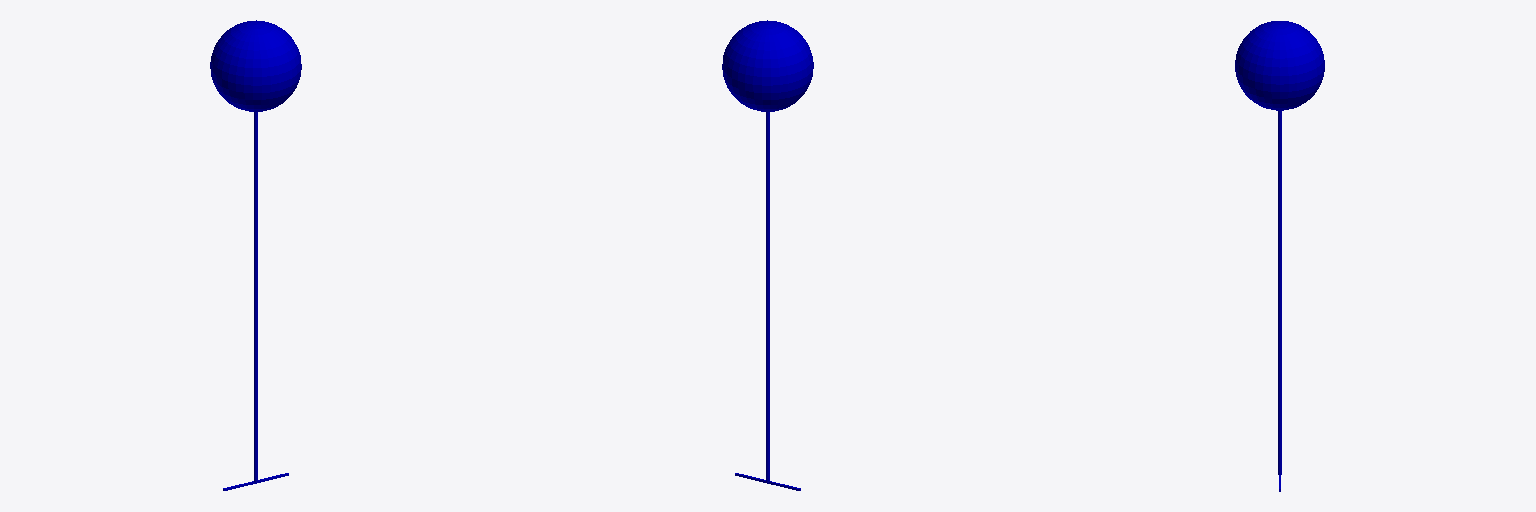
The robot description file, URDF, robot "single_legged_hopper":
<?xml version="1.0"?>
<robot name = "single_legged_hopper">
    <link name = "xtrans"/>
    <link name = "ztrans"/>
    <material name="blue">
        <color rgba="0 0 0.8 1"/>
    </material>
    <joint name="xslide" type="prismatic">
        <parent link="xtrans"/>
        <child link="ztrans"/>
        <origin rpy="0 0 0" xyz="0 0 0"/>
        <axis xyz="1 0 0"/>
    </joint>
    <joint name="zslide" type="prismatic">
        <parent link="ztrans"/>
        <child link="base"/>
        <origin rpy="0 0 0" xyz="0 0 0"/>
        <axis xyz="0 0 1"/>
    </joint>
    <!-- add link for the base -->
    <link name="base">
        <inertial>
            <origin xyz="0 0 0"/>
            <mass value="10"/>
            <inertia ixx="0.0001" ixy="0" ixz="0" iyy="0.0001" iyz="0.0" izz="0.0001"/>
        </inertial>
        <visual>
            <origin xyz="0 0 0" rpy="0.0 0.0 0.0"/>
            <geometry>
                <sphere radius="0.2"/>
            </geometry> 
            <material name="blue"/>
        </visual>
    </link>
    <!--does this lock the hopper in x and z axis?-->
    
    <!-- join between base and leg 1 -->
    
    
    <!-- add link for leg 1 -->
    <link name="leg_1">
        <visual>
            <origin xyz="0 0 -0.5" rpy="0 0 0"/>
            <geometry>
                <cylinder radius="0.01" length = "1"/>
            </geometry>
            <material name="blue"/>
        </visual>
        <inertial>
            <origin xyz="0 0 -0.5" rpy="0 0 0"/>
            <mass value="1"/>
            <inertia ixx="0.083" ixy="0.0" ixz="0.0" iyy="0.083" iyz="0.0" izz="0.00001"/>
        </inertial>
    </link>
    <joint name="base_leg_1" type="revolute">
        <parent link="base"/>
        <child link="leg_1"/>
        <axis xyz="0 1 0"/>
      	<origin xyz = "0 0 0"/>
        <limit lower="-1.57" upper="1.57"/>
    </joint>
    <!-- join between leg 1 and leg 2 -->
    
    
    <!-- add link for leg 2 -->
    <link name="leg_2">
        <visual>
            <origin xyz="0 0 -0.5" rpy="0 0 0"/>
            <geometry>
                <cylinder radius="0.01" length = "1"/>
            </geometry>
            <material name="blue"/>
        </visual>
        <inertial>
            <origin xyz="0 0 -0.5" rpy="0 0 0"/>
            <mass value="1"/>
            <inertia ixx="0.083" ixy="0.0" ixz="0.0" iyy="0.083" iyz="0.0" izz="0.00001"/>
        </inertial>
    </link>
    <joint name="leg_1_leg_2" type="revolute">
        <parent link="leg_1"/>
        <child link="leg_2"/>
        <axis xyz="0 1 0"/>
      	<origin xyz = "0 0 -1"/>
        <limit lower="-1.04" upper="2.09"/>
    </joint>
    <!-- joint between leg 2 and foot -->
    
    <link name="foot">
        <inertial>
            <origin xyz="0 0 0" rpy="0.0 0.0 0.0"/>
            <mass value="0.33"/>
            <inertia ixx="0.0001" ixy="0.0" ixz="0.0" iyy="0.003" iyz="0.0" izz="0.003"/>
        </inertial>
        <visual>
            <origin xyz="0 0 0" rpy="0.0 0.0 0.0"/>
            <geometry>
                <box size="0.33 0.01 0.01"/>
            </geometry>
            <material name="blue"/>
        </visual>
        <!-- collision point 1 -->
        <collision>
            <origin xyz="0.1665 0 0" rpy="0.0 0.0 0.0"/>
            <geometry>
                <sphere radius="0"/>
            </geometry>
        </collision> -->
        <!-- collision point 2 -->
        <collision>
        <origin xyz="-0.1665 0 0"/>
            <geometry>
                <sphere radius="0"/>
            </geometry>
        </collision>
        <!-- single collision point -->
        <!-- <collision>
            <origin xyz="0 0 0" rpy="0.0 0.0 0.0"/>
            <geometry>
                <sphere radius="0"/>
            </geometry>
        </collision> -->
    </link>
    <joint name="leg_2_foot" type="revolute">
        <parent link="leg_2"/>
        <child link="foot"/>
        <axis xyz="0 1 0"/>
      	<origin xyz = "0 0 -1"/>
        <limit lower="-1.04" upper="1.04"/>
    </joint>
    <!-- fix the joints together -->
    <!-- add transmission between base and leg 1 -->
    <transmission name = "joint1_transmission">
        <type>transmission_interface/SimpleTransmission</type>
        <joint name="base_leg_1"/>
        <actuator name="joint1_actuator">
            <mechanicalReduction>1</mechanicalReduction>
        </actuator>
    </transmission>
    <transmission name = "joint2_transmission">
        <type>transmission_interface/SimpleTransmission</type>
        <joint name="leg_1_leg_2"/>
        <actuator name="joint2_actuator">
            <mechanicalReduction>1</mechanicalReduction>
        </actuator>
    </transmission>
    <transmission name = "joint3_transmission">
        <type>transmission_interface/SimpleTransmission</type>
        <joint name="leg_2_foot"/>
        <actuator name="joint3_actuator">
            <mechanicalReduction>1</mechanicalReduction>
        </actuator>
    </transmission>
</robot>

--- Facts derived from the render (not from the file) ---
Views: 3 orthographic renders of the robot side by side, from view 1: azimuth 30°, elevation 25°; view 2: azimuth 150°, elevation 25°; view 3: azimuth 270°, elevation 25°.
Robot: single_legged_hopper — 6 links, 5 joints (3 revolute, 2 prismatic); root link xtrans; default pose: all joints at 0.
Links seen in each view (by area): view 1: base, leg_2, leg_1; view 2: base, leg_2, leg_1; view 3: base, leg_2, leg_1.
Link boxes in pixels (box(x1,y1,x2,y2)): base: box(210, 20, 301, 111); leg_2: box(254, 275, 257, 482); leg_1: box(254, 112, 257, 274); base: box(722, 20, 813, 111); leg_2: box(766, 275, 769, 482); leg_1: box(766, 112, 769, 274); base: box(1235, 21, 1324, 110); leg_2: box(1278, 271, 1281, 474); leg_1: box(1278, 111, 1281, 270).
Size in the robot's own frame: 0.4 by 0.4 by 2.21 metres.
Geometry: primitives only (box / cylinder / sphere), no mesh files.
